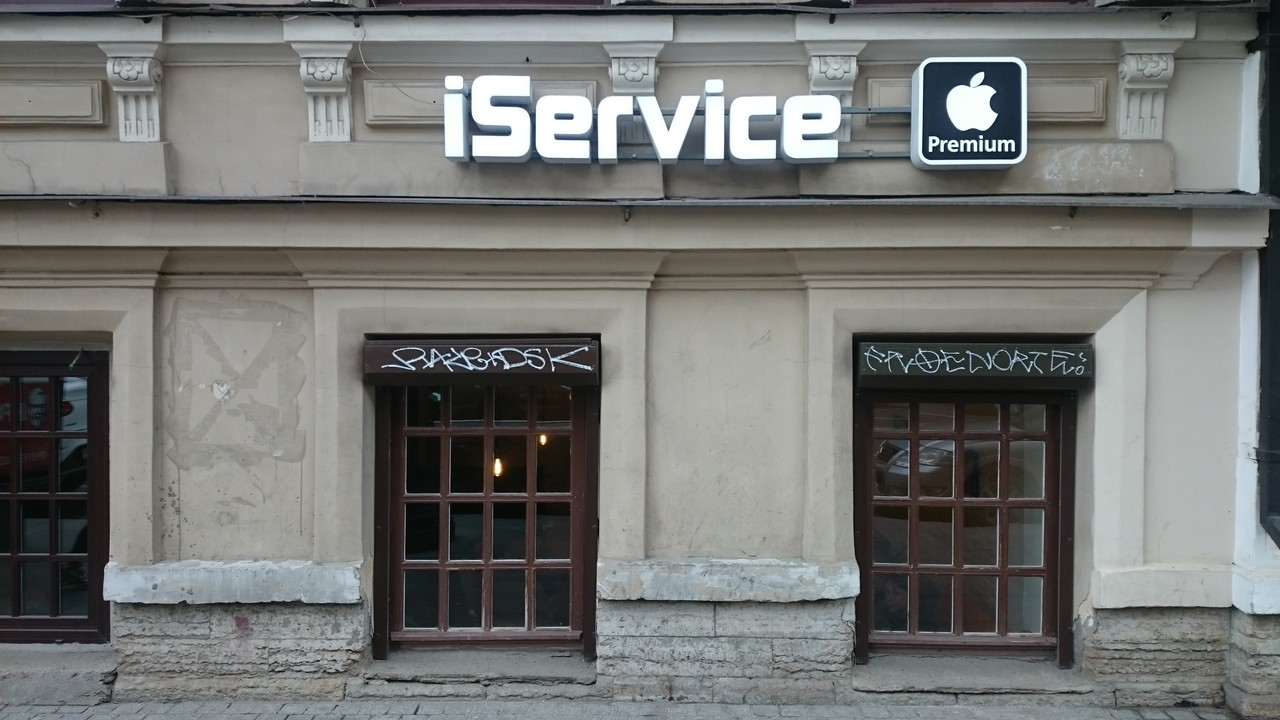signboard: (446, 55, 1033, 169)
window: (854, 337, 1091, 664), (371, 337, 597, 662)
